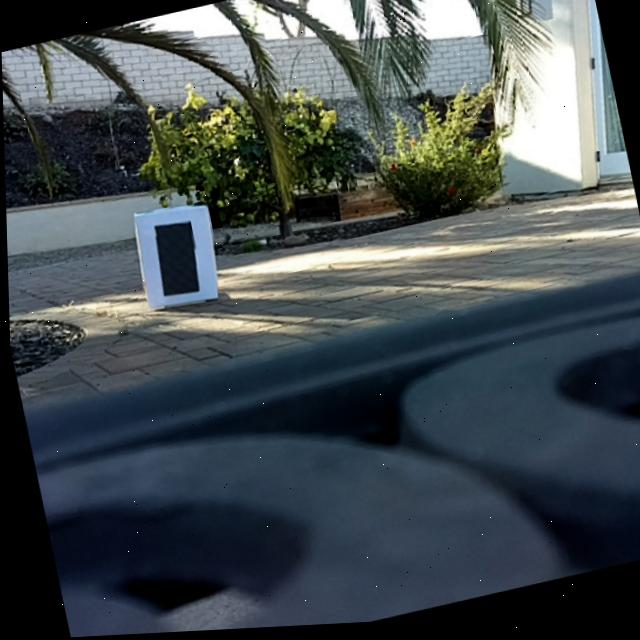led: (147, 217, 201, 303)
